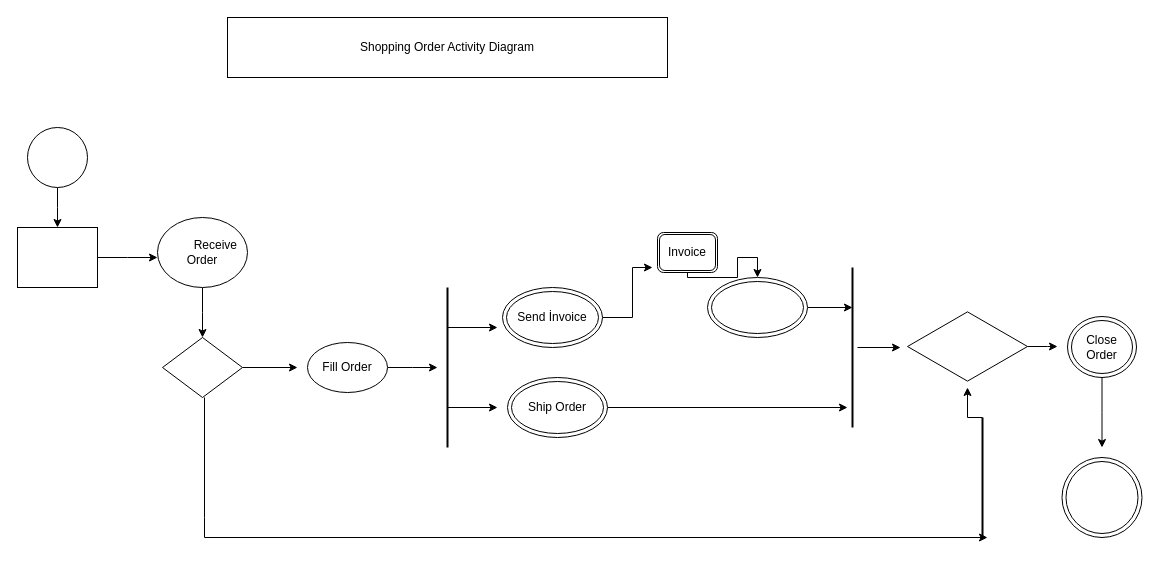
This 1160x563 diagram has some shape labels left out. The shapes that lost their labels are listed below. From the top down, each one's centre as x and y in pixels, then its label:
pixel 57 257: request Order
pixel 757 307: Accept
pixel 202 367: Order accepted
